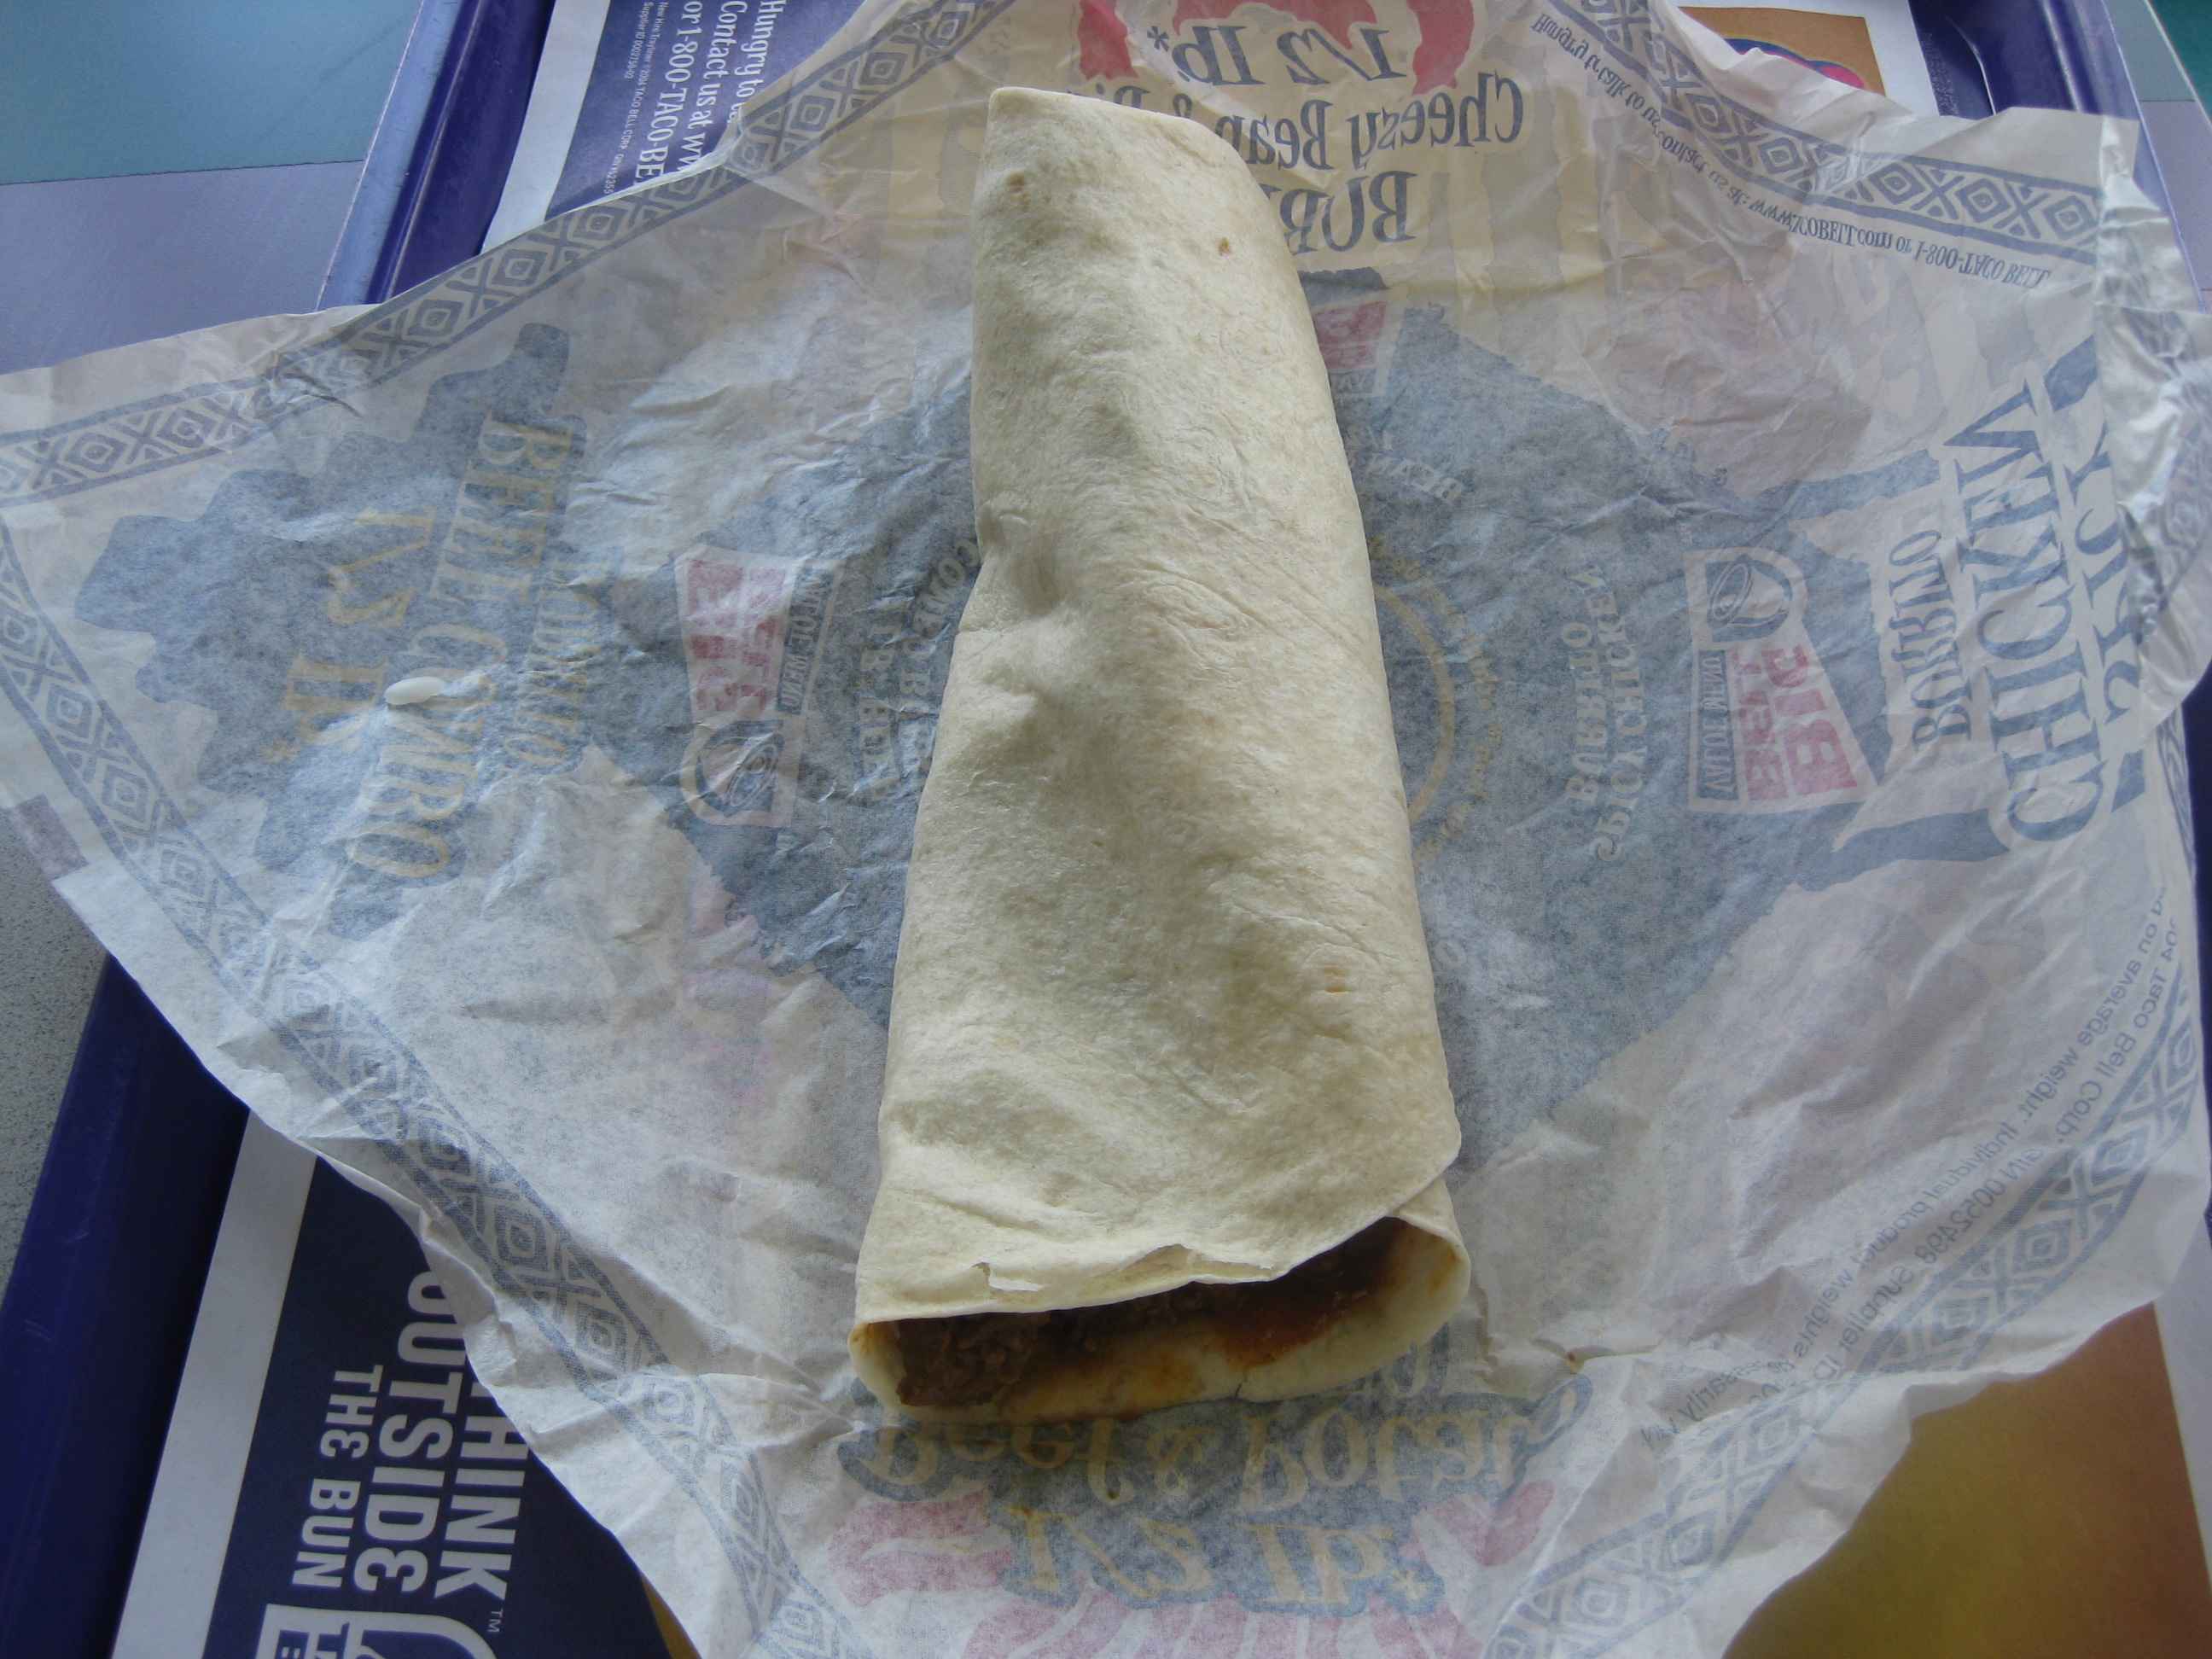burrito: (853, 42, 1504, 1446)
